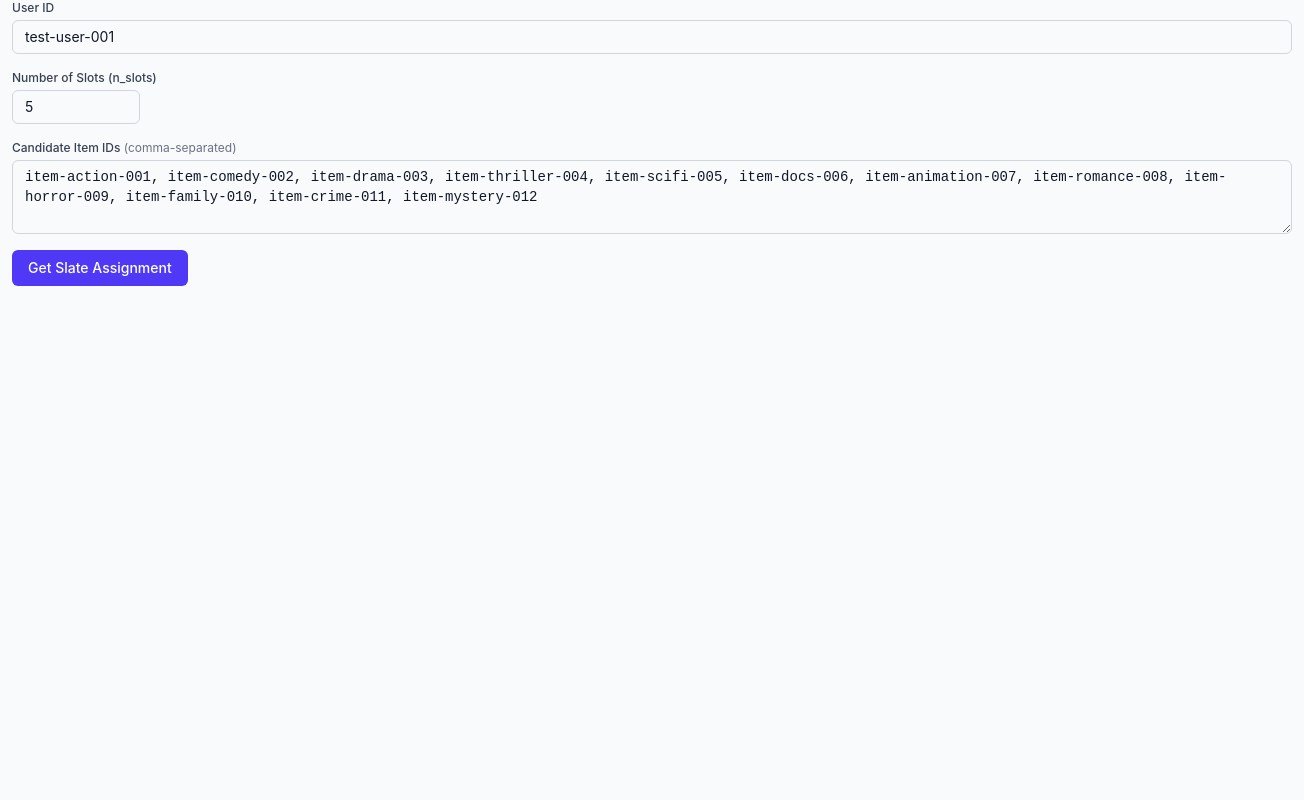
Test case: SlateAssignmentForm › submits and renders SlateResultsPanel on success
This screenshot has width=1304, height=800.
Step 1. Click the button "Get Slate Assignment" → coordinates (100, 268), box [12,250,188,286]
(page scrolled)
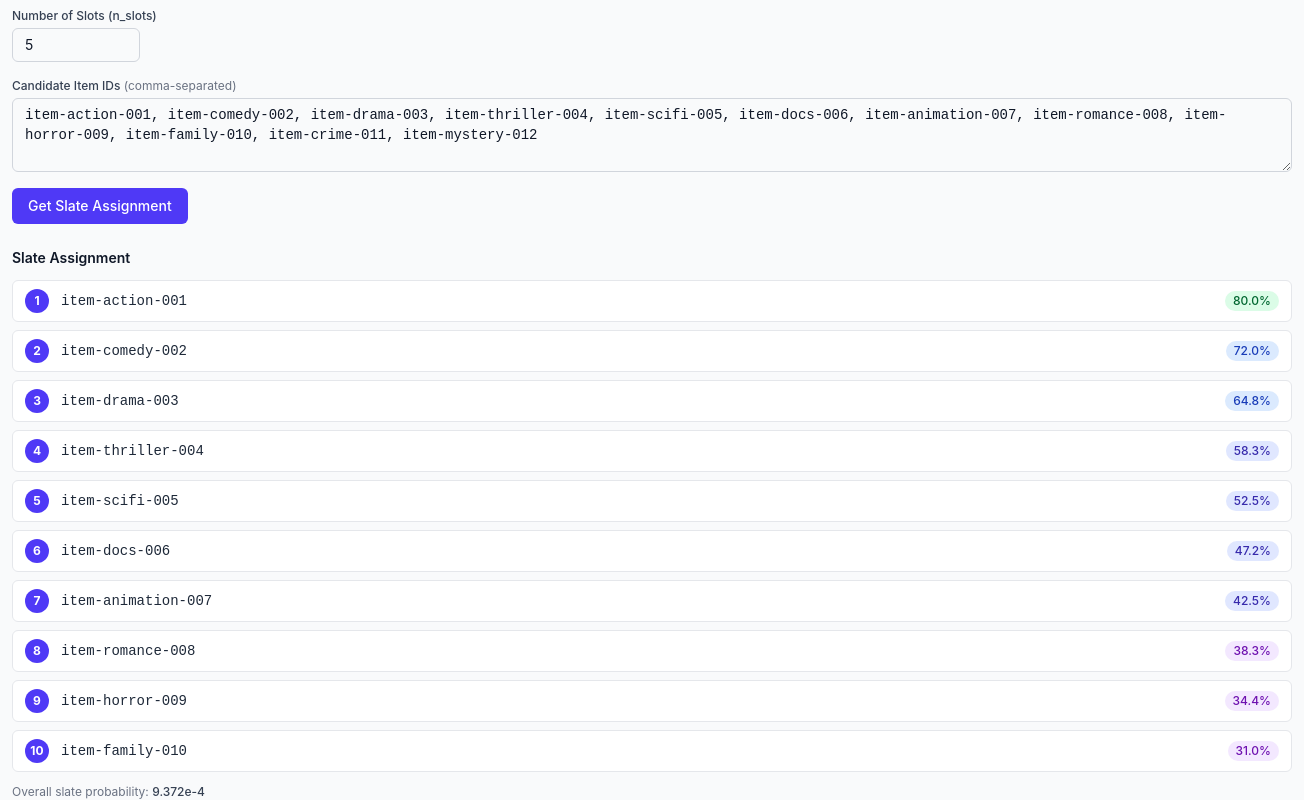
Result: the element with test id "slate-results-panel" is shown
